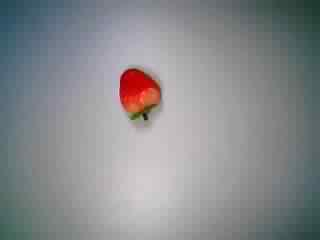strawberry: (108, 68, 170, 132)
